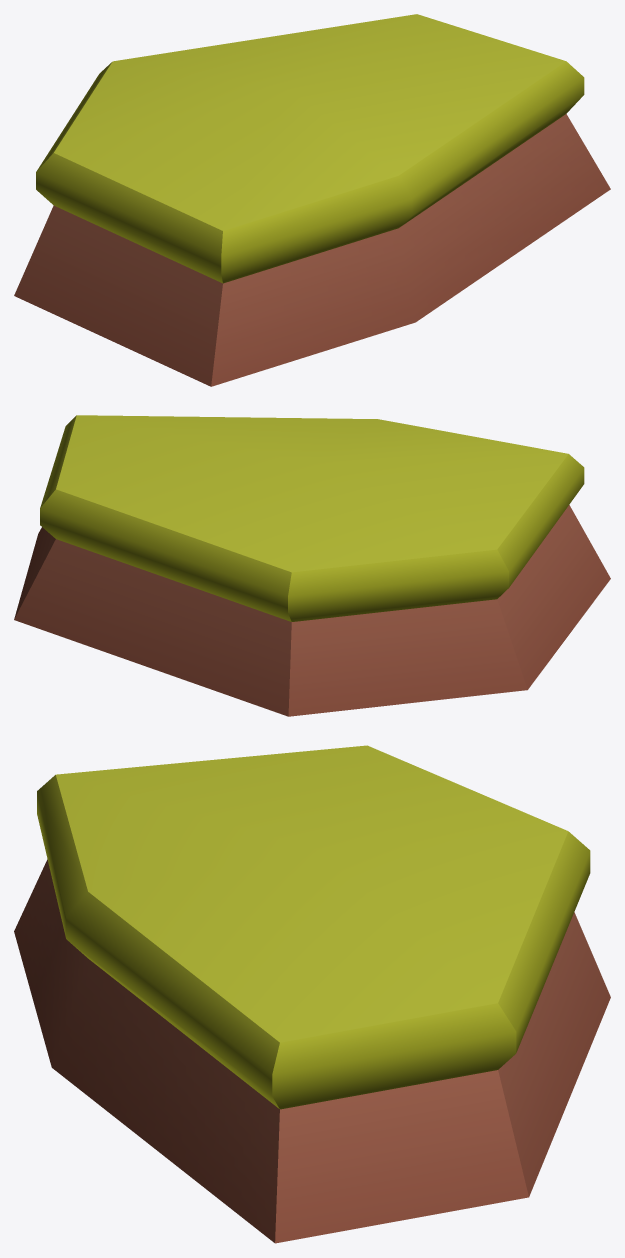
The model's file is hill_single_A.glb.
3 views of the same model, one above another, from view 1: azimuth 30°, elevation 25°; view 2: azimuth 150°, elevation 25°; view 3: azimuth 270°, elevation 25° (orthographic). The views are drawn at different scales.
Visible parts, largest first — view 1: hill_single_A; view 2: hill_single_A; view 3: hill_single_A.
Part boxes in pixels (bbox=[...]): hill_single_A: bbox=[14, 14, 610, 386]; hill_single_A: bbox=[14, 415, 610, 716]; hill_single_A: bbox=[14, 745, 610, 1243].
Bounding box in the file's own units: 1.11 × 0.3073 × 0.8094.
1 material, 1 textured.
